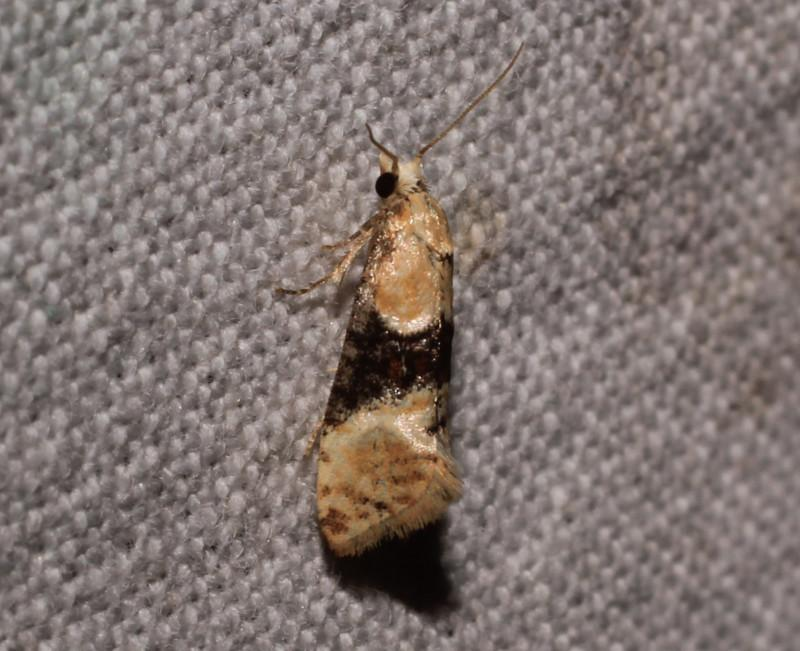Eupoecilia Ambiguella: (270, 37, 530, 561)
